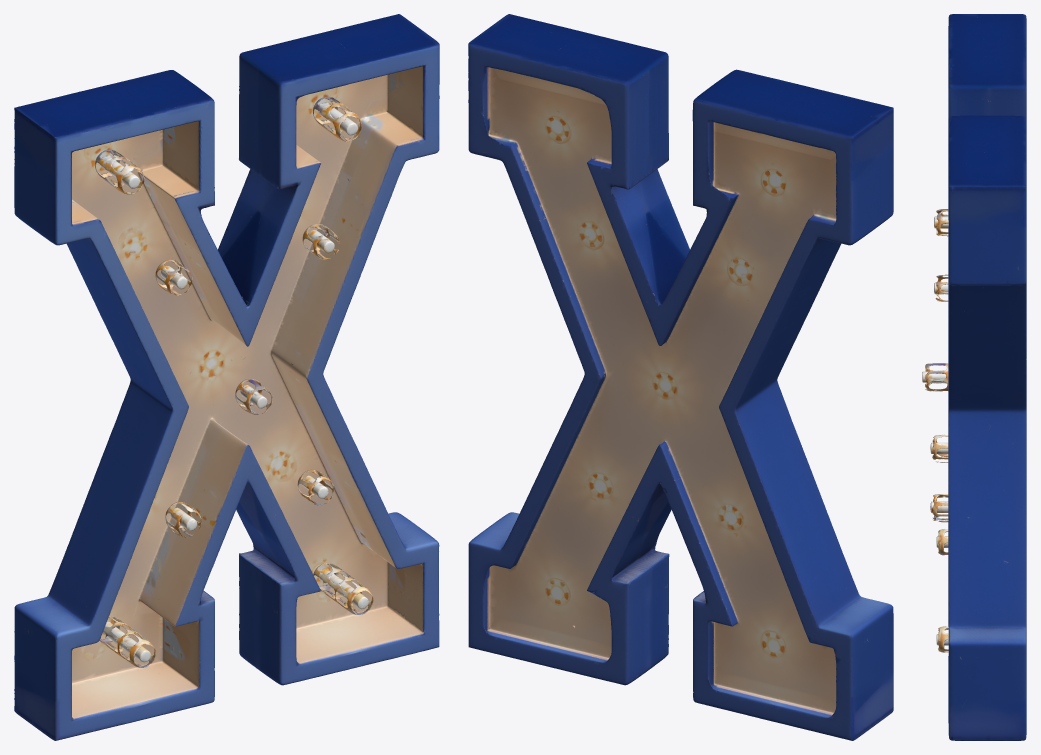
Rendered from Letter_x.glb.
3 renders of one model, left to right at view 1: azimuth 30°, elevation 25°; view 2: azimuth 150°, elevation 25°; view 3: azimuth 270°, elevation 25°, orthographic. The views are drawn at different scales.
Parts seen in each view (by area): view 1: Mesh_0.002; view 2: Mesh_0.002; view 3: Mesh_0.002.
Boxes of the visible parts, x1=… form: Mesh_0.002: x1=14, y1=14, x2=439, y2=740; Mesh_0.002: x1=468, y1=14, x2=893, y2=740; Mesh_0.002: x1=922, y1=14, x2=1026, y2=740.
Size of the model in its own units: 0.6099 by 0.914 by 0.1563.
1 material, 1 textured.
